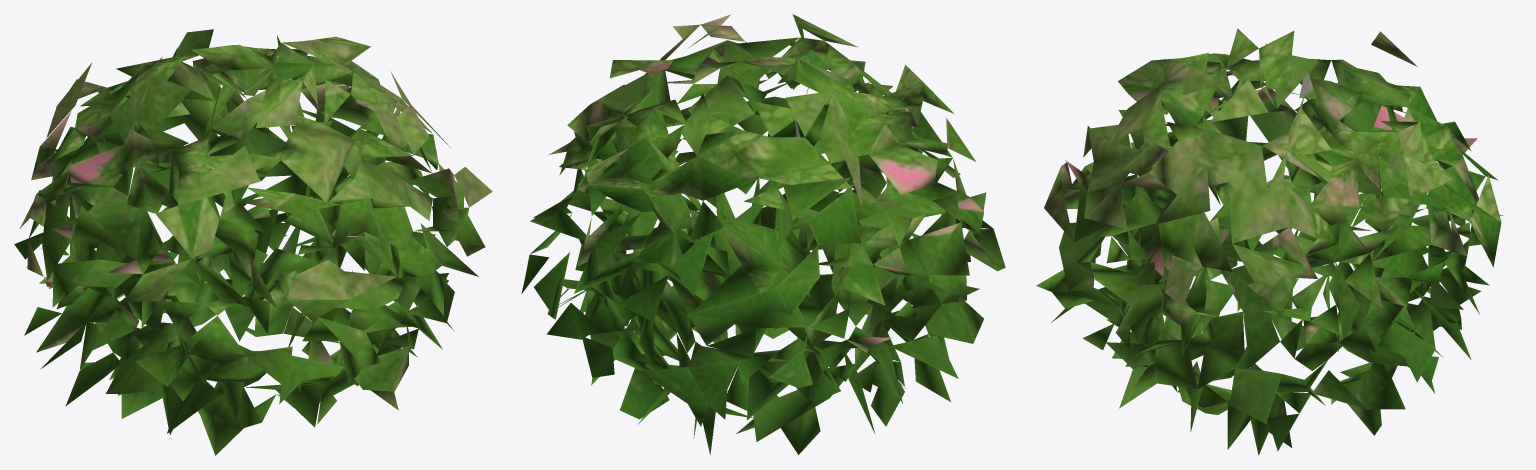
File: bush_flower.glb
3 views of the same model, side by side, from view 1: azimuth 30°, elevation 25°; view 2: azimuth 150°, elevation 25°; view 3: azimuth 270°, elevation 25° (orthographic). The views are drawn at different scales.
Parts seen in each view (by area): view 1: plant; view 2: plant; view 3: plant.
Part boxes in pixels (x1=…): plant: x1=14, y1=29, x2=492, y2=455; plant: x1=521, y1=14, x2=1005, y2=454; plant: x1=1036, y1=28, x2=1503, y2=455.
Size of the model in its own units: 0.9775 by 0.7967 by 1.
1 material, 1 textured.
